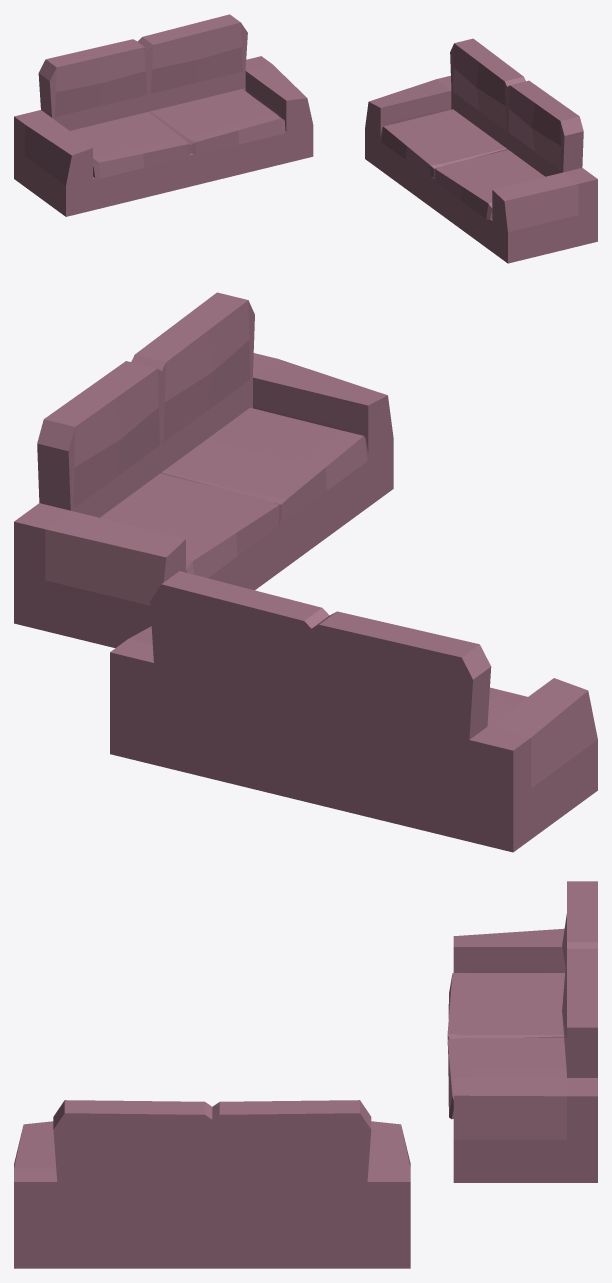
The model's file is Sofa_ReceptionRoom.glb.
3 renders of one model, top to bottom at view 1: azimuth 30°, elevation 25°; view 2: azimuth 150°, elevation 25°; view 3: azimuth 270°, elevation 25°, orthographic. The views are drawn at different scales.
Visible parts, largest first — view 1: Cube.001; view 2: Cube.001; view 3: Cube.001.
Boxes of the visible parts, x1=… form: Cube.001: x1=14, y1=14, x2=597, y2=263; Cube.001: x1=14, y1=292, x2=597, y2=852; Cube.001: x1=14, y1=881, x2=597, y2=1268.
Size of the model in its own units: 2.66 by 0.7601 by 2.59.
Materials: 1 (1 with a texture image).
